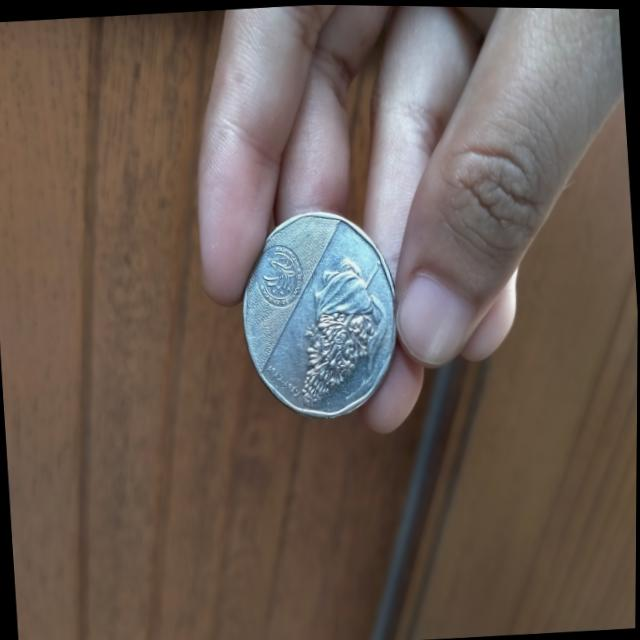10_New_Back: (279, 247, 401, 411)
